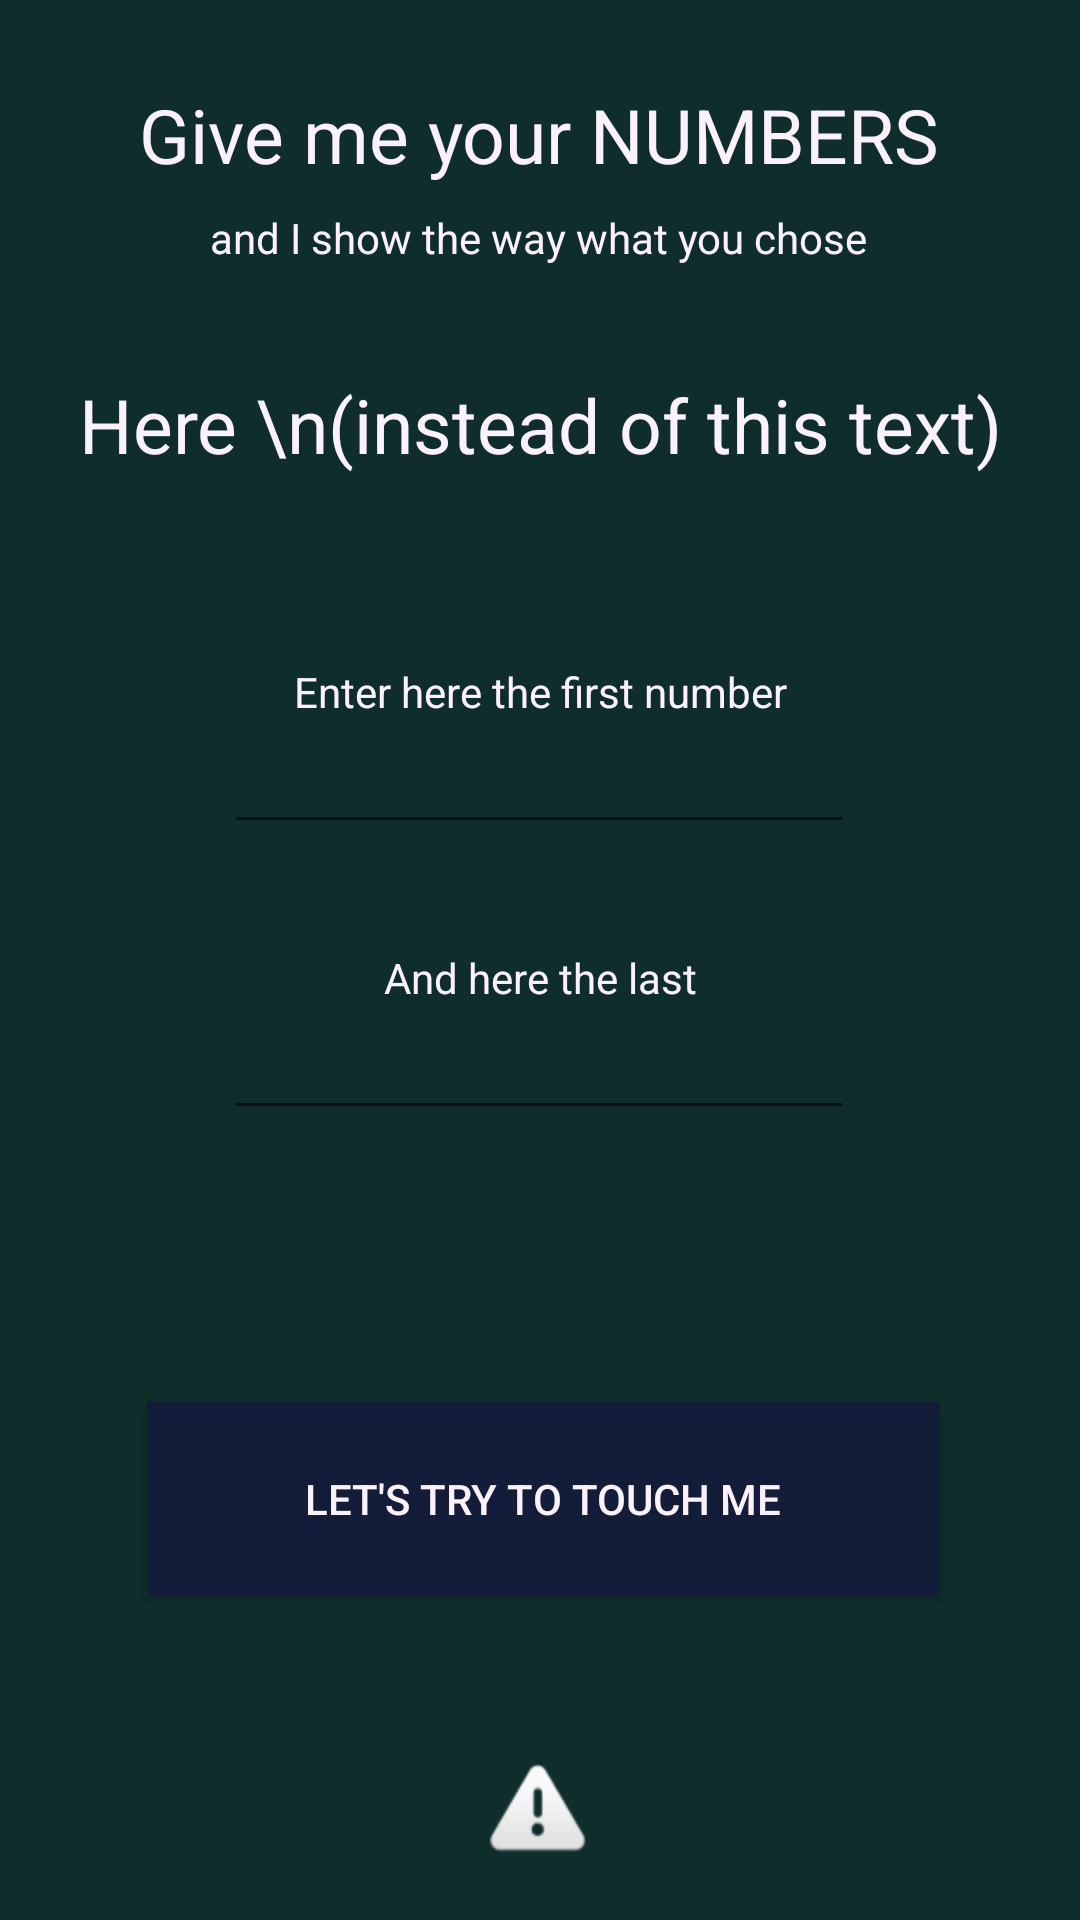

Locate icon controls on the screen. Image size 1080px x 1920px, boxes as box(x1, y1, x2, y2).
alert: box(490, 1764, 586, 1851)
